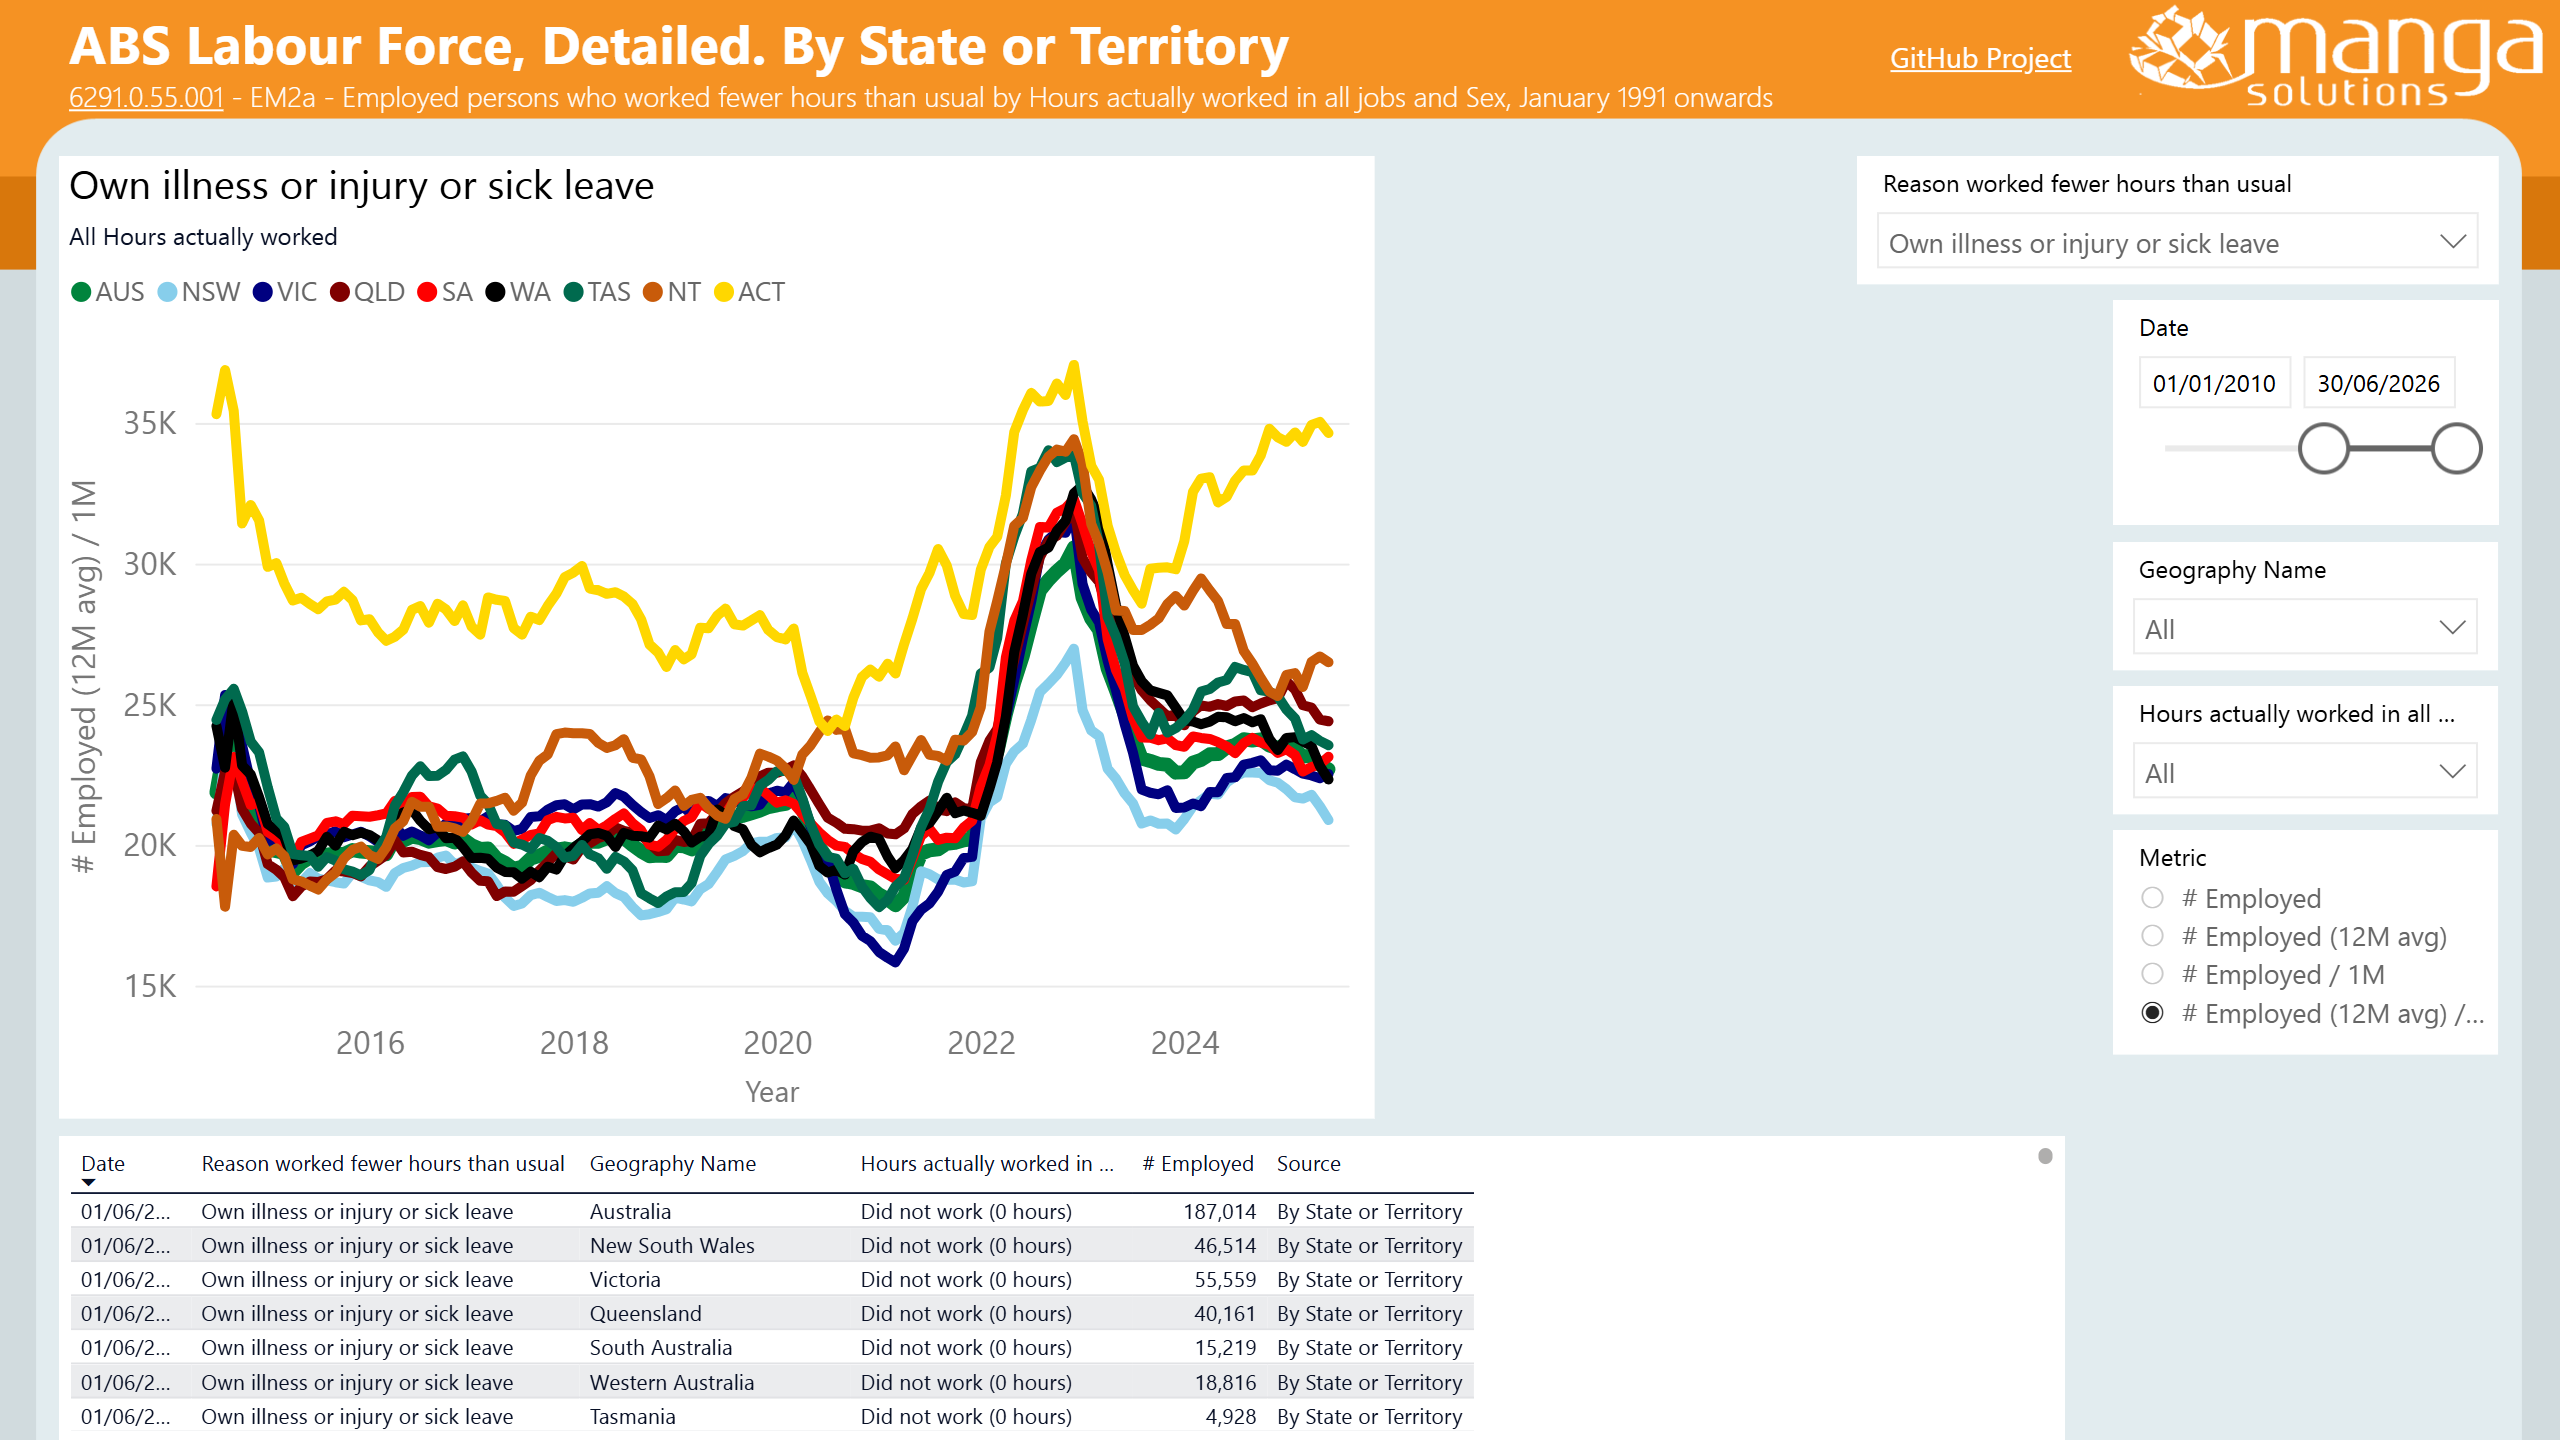

This screenshot's page, from the dashboard's own definition file:
{"tool":"powerbi","page":{"name":"EM2 Line Chart by State or Territory","canvas":[1280,720],"ordinal":1},"visuals":[{"type":"lineChart","fields":{"Y":["EM2.# Employed (12M avg) / 1M"],"Category":["Date.Date.Variation.Date Hierarchy.Year","Date.Date.Variation.Date Hierarchy.Quarter","Date.Date.Variation.Date Hierarchy.Month","Date.Date.Variation.Date Hierarchy.Day"],"Series":["Australia States and Territories.Geography Code"]},"box":[32,80,656,480],"z":0},{"type":"slicer","fields":{"Values":["Date.Date"]},"box":[1056,152,192,112],"z":1000},{"type":"slicer","fields":{"Values":["EM2a.Reason worked fewer hours than usual"]},"box":[928,80,320,64],"z":2000},{"type":"textbox","box":[32,0,912,72],"z":3000},{"type":"actionButton","box":[1056,0,224,64],"z":4000},{"type":"slicer","fields":{"Values":["EM2.Hours actually worked in all jobs"]},"box":[1056,344,192,64],"z":5000},{"type":"slicer","fields":{"Values":["Australia States and Territories.Geography Name"]},"box":[1056,272,192,64],"z":6000},{"type":"slicer","fields":{"Values":["Metric.Metric"]},"box":[1056,416,192,112],"z":7000},{"type":"tableEx","fields":{"Values":["Date.Date","EM2a.Reason worked fewer hours than usual","Australia States and Territories.Geography Name","EM2.Hours actually worked in all jobs","EM2a.# Employed","EM2.Source"]},"box":[32,568,1000,152],"z":8000},{"type":"textbox","box":[920,16,120,32],"z":9000}]}

Visuals, with their boxes on the page's 1280x720 design canvas (x1, y1, x2, y2). These are canvas units, not pixel positions in the 2560x1440 screenshot, which may show the page scaled, cropped or inside an application window:
lineChart - EM2.# Employed (12M avg) / 1M x Date.Date.Variation.Date Hierarchy.Year: crop(32, 80, 688, 560)
slicer - Date.Date: crop(1056, 152, 1248, 264)
slicer - EM2a.Reason worked fewer hours than usual: crop(928, 80, 1248, 144)
textbox: crop(32, 0, 944, 72)
actionButton: crop(1056, 0, 1280, 64)
slicer - EM2.Hours actually worked in all jobs: crop(1056, 344, 1248, 408)
slicer - Australia States and Territories.Geography Name: crop(1056, 272, 1248, 336)
slicer - Metric.Metric: crop(1056, 416, 1248, 528)
tableEx - Date.Date x EM2a.Reason worked fewer hours than usual: crop(32, 568, 1032, 720)
textbox: crop(920, 16, 1040, 48)
